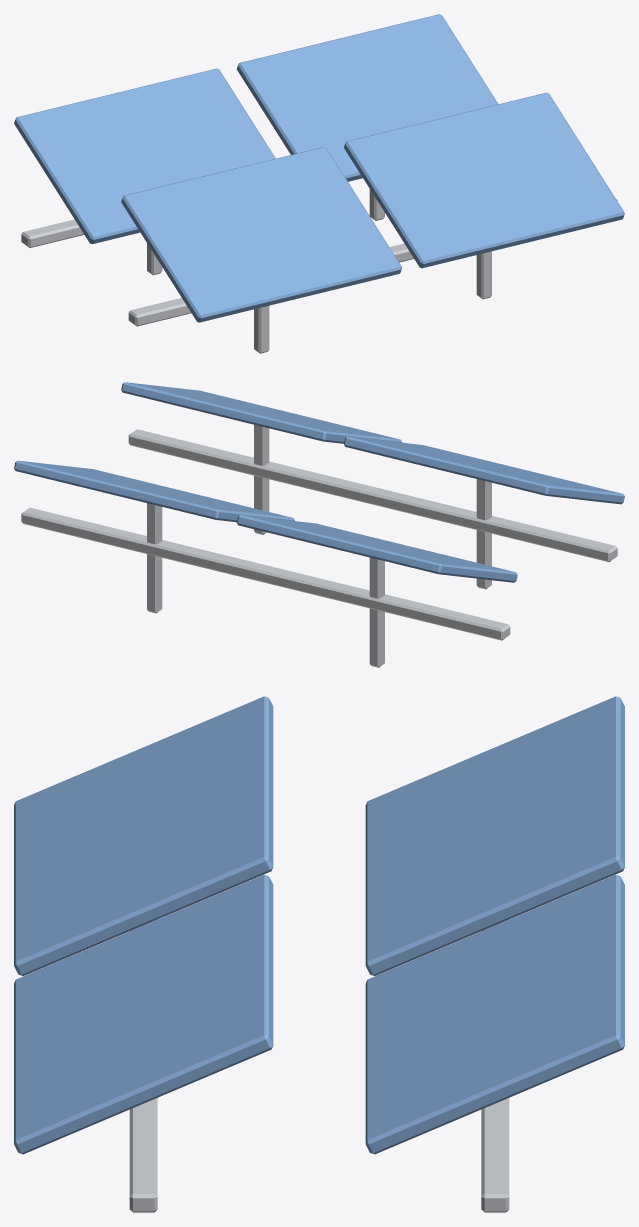
The model's file is 构筑_太阳能板阵_01.fbx.
The picture shows the model from 3 angles, top to bottom: view 1: azimuth 30°, elevation 25°; view 2: azimuth 150°, elevation 25°; view 3: azimuth 270°, elevation 25°; orthographic projection. The views are drawn at different scales.
Visible parts, largest first — view 1: 板面, 横梁.002, 支架.002; view 2: 板面, 横梁.002, 支架.002; view 3: 板面, 横梁.002.
Boxes of the visible parts, x1,y1,x2,y2 form: 板面: [14, 14, 624, 322]; 横梁.002: [21, 198, 617, 326]; 支架.002: [147, 189, 491, 353]; 板面: [14, 382, 624, 582]; 横梁.002: [21, 429, 617, 640]; 支架.002: [147, 424, 491, 667]; 板面: [14, 696, 624, 1154]; 横梁.002: [129, 919, 509, 1212].
Bounding box in the file's own units: 520 × 157 × 348.
